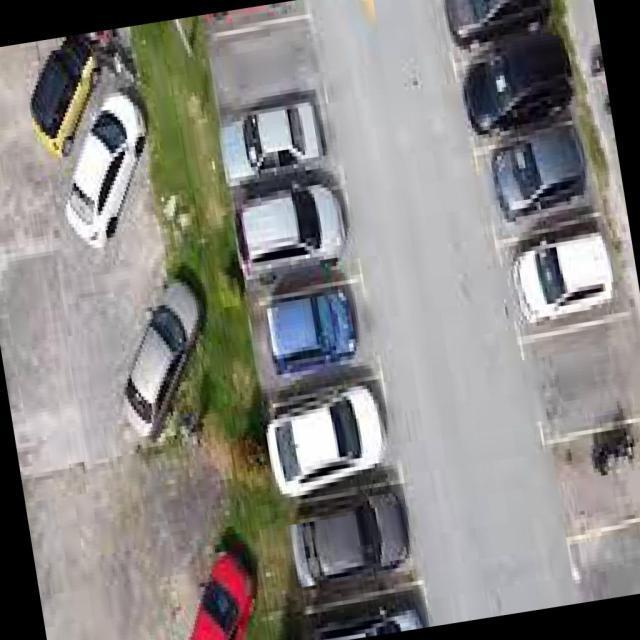car: (277, 474, 422, 608), (262, 382, 402, 506), (226, 172, 364, 296), (249, 288, 375, 407), (471, 120, 597, 236), (450, 29, 576, 138), (214, 93, 340, 201), (504, 224, 632, 328), (434, 0, 560, 52)
free: (522, 307, 640, 457), (542, 398, 640, 554), (204, 10, 324, 128), (542, 504, 640, 604)
